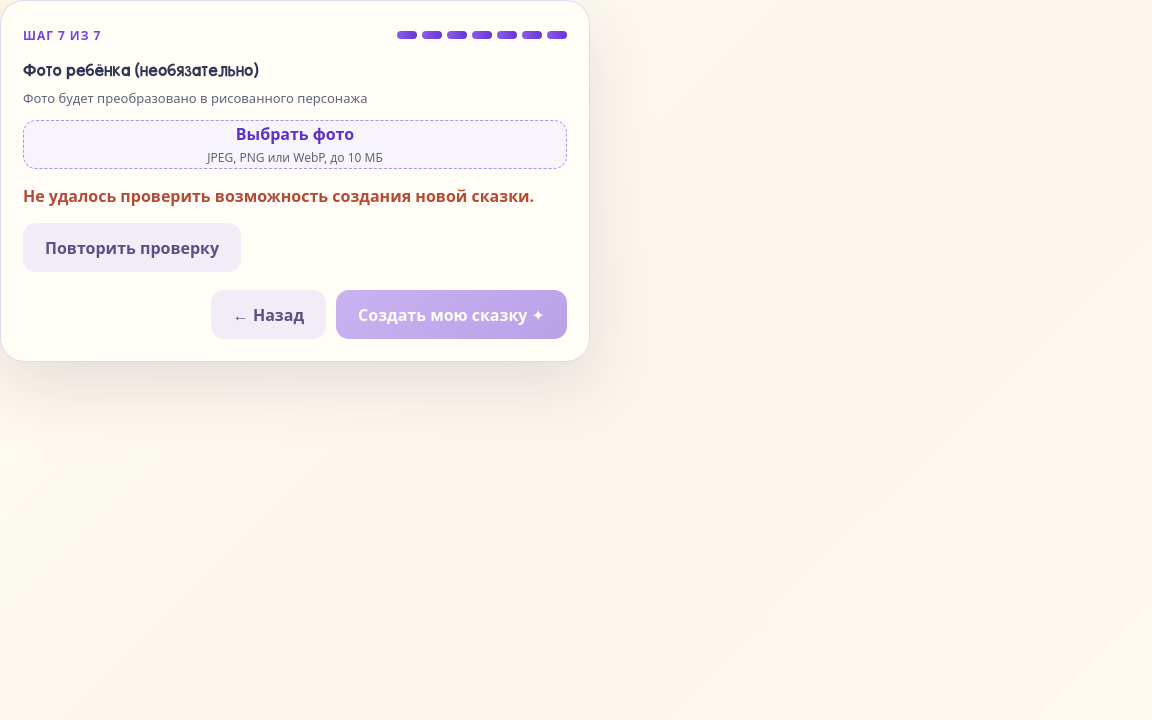
Test case: Wizard flow submission › keeps create blocked on check error and unlocks after retry returns null
The width and height of the screenshot is (1152, 720).
Expected: the message shows "Не удалось проверить возможность создания", [23,185,534,207]
Expected: the button "Создать мою сказку ✦" is disabled, [336,290,567,339]
Click the button "Повторить проверку" at (132, 248), box [23,223,241,272]
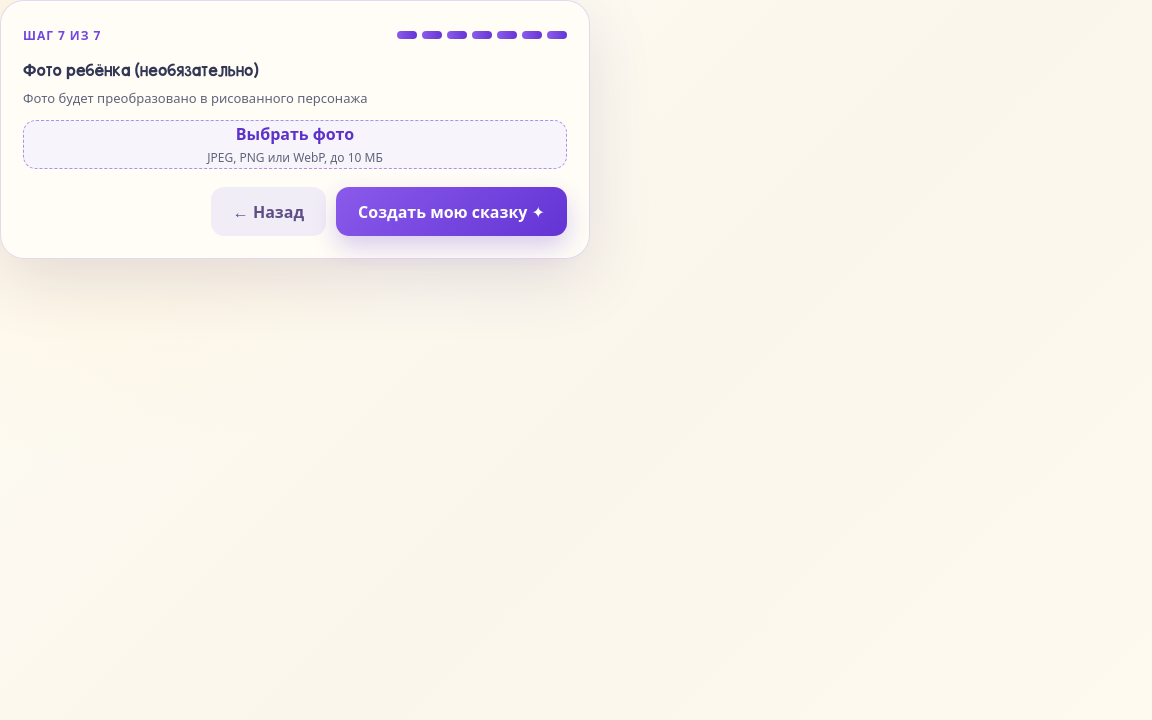
Result: the button "Создать мою сказку ✦" is enabled at [336,187,567,236]
